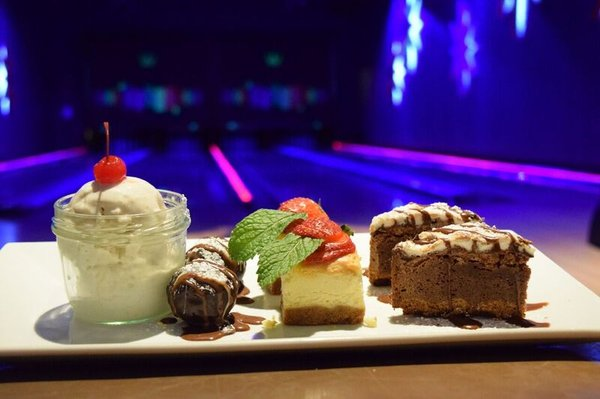sushi: (367, 202, 544, 326), (226, 196, 364, 328)
